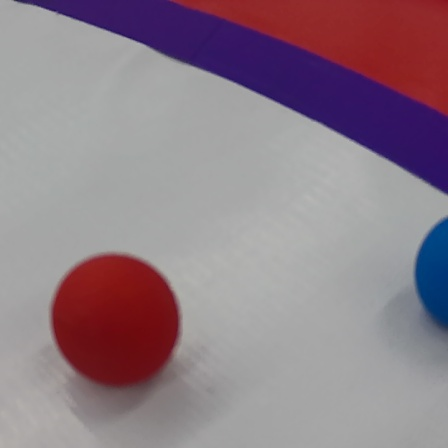blue: (411, 213, 448, 362)
red: (45, 241, 184, 393)
red_aim: (8, 3, 448, 202)
